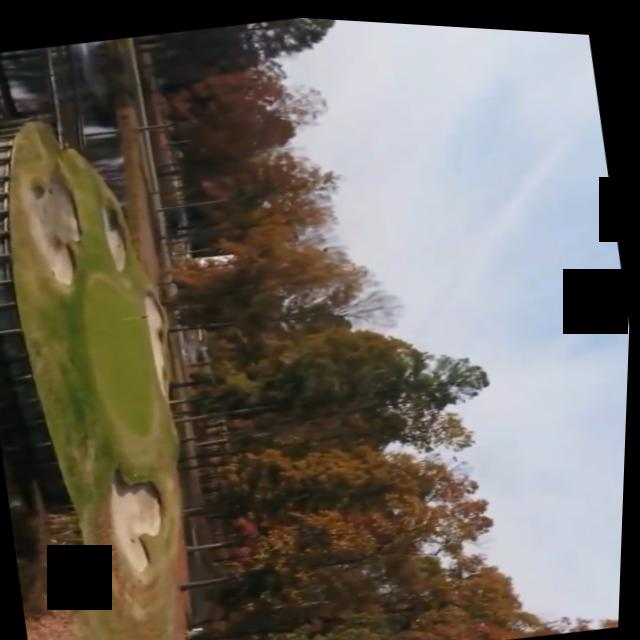Pole: (110, 302, 161, 326)
